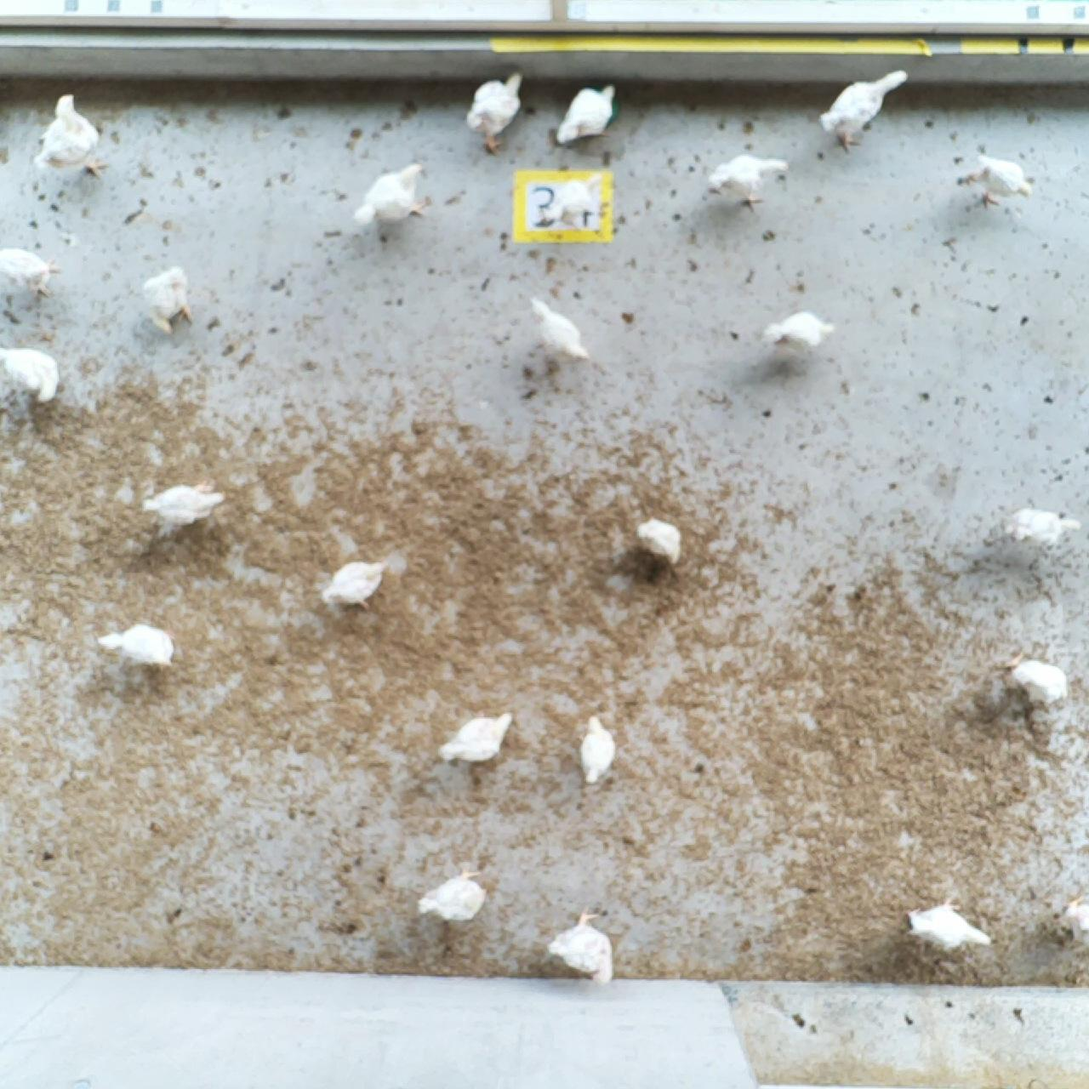chicken: (819, 66, 906, 148), (37, 91, 110, 179), (544, 906, 614, 993), (353, 163, 430, 231), (143, 477, 228, 536), (467, 69, 524, 153), (909, 894, 996, 949), (527, 297, 594, 361), (419, 859, 487, 921), (710, 154, 786, 206), (96, 624, 176, 670), (1, 243, 54, 311), (441, 710, 510, 762), (321, 558, 387, 610), (143, 269, 192, 339), (1004, 652, 1068, 705), (1008, 507, 1081, 553), (1, 346, 61, 400), (559, 84, 613, 143), (767, 309, 831, 358), (971, 153, 1029, 207), (578, 716, 619, 784), (636, 518, 684, 564), (1069, 899, 1089, 944)
